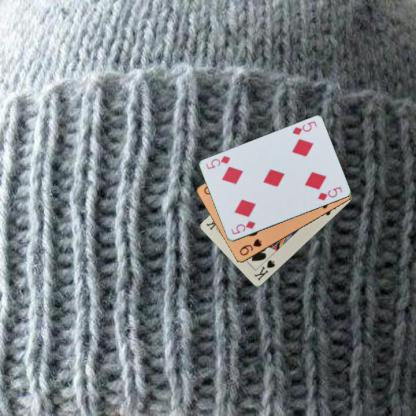5d: (228, 218, 257, 236), (289, 119, 318, 136)
9s: (237, 236, 263, 257)
Ks: (252, 258, 276, 282)
